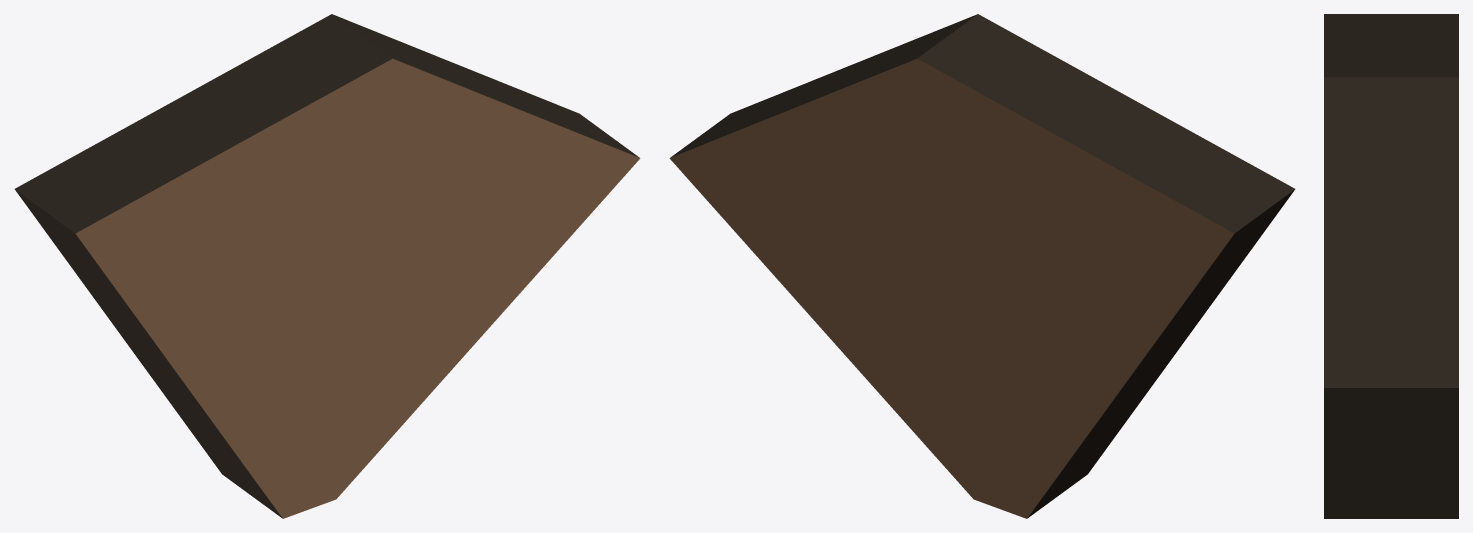
Rendered from SM_DoorShard_03_44.fbx.
3 views of the same model, side by side, from view 1: azimuth 30°, elevation 25°; view 2: azimuth 150°, elevation 25°; view 3: azimuth 270°, elevation 25° (orthographic). The views are drawn at different scales.
Parts seen in each view (by area): view 1: SM_DoorShard_03_44; view 2: SM_DoorShard_03_44; view 3: SM_DoorShard_03_44.
Part boxes in pixels (x1,y1,x2,y2): SM_DoorShard_03_44: (14,14,640,518); SM_DoorShard_03_44: (669,14,1295,518); SM_DoorShard_03_44: (1324,14,1458,518).
Bounding box in the file's own units: 85.64 × 16 × 62.79.
